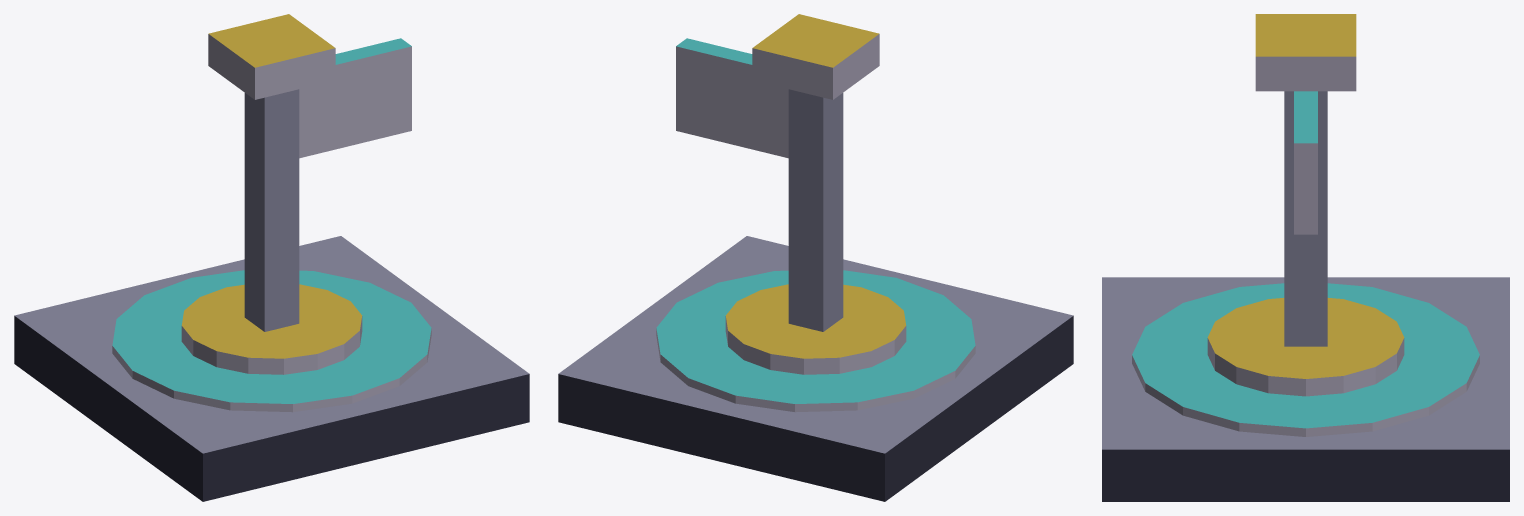
The model's file is star_garden_checkpoint.obj.
3 views of the same model, side by side, from view 1: azimuth 30°, elevation 25°; view 2: azimuth 150°, elevation 25°; view 3: azimuth 270°, elevation 25° (orthographic). The views are drawn at different scales.
Parts seen in each view (by area): view 1: star_garden_checkpoint; view 2: star_garden_checkpoint; view 3: star_garden_checkpoint.
Boxes of the visible parts, <box> form: star_garden_checkpoint: <box>14,14,529,501</box>; star_garden_checkpoint: <box>558,14,1073,501</box>; star_garden_checkpoint: <box>1102,14,1509,501</box>.
Bounding box in the file's own units: 3.4 × 3.5 × 3.4.
